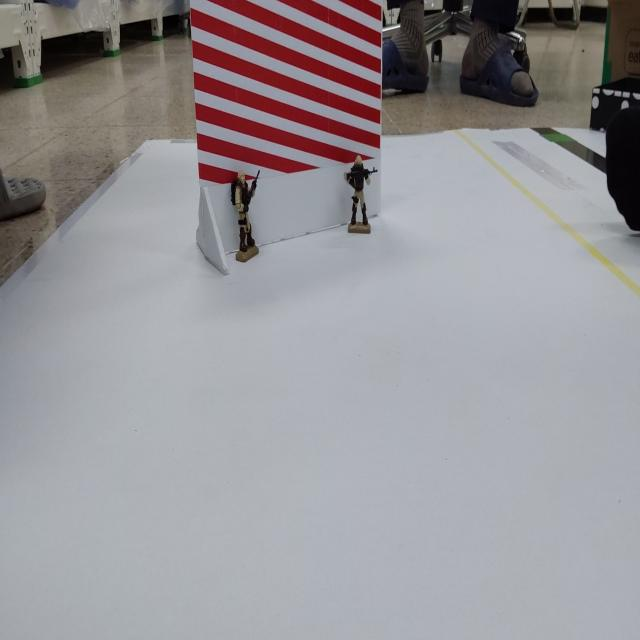ally: (344, 154, 378, 233), (231, 171, 259, 262)
